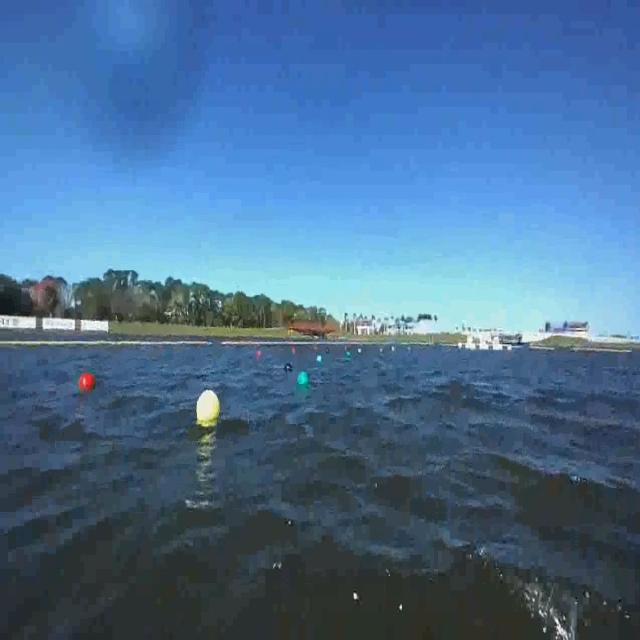black-buoy: (285, 358, 296, 374)
green-buoy: (296, 372, 308, 389)
red-buoy: (78, 372, 96, 390)
yellow-buoy: (196, 391, 221, 428)
